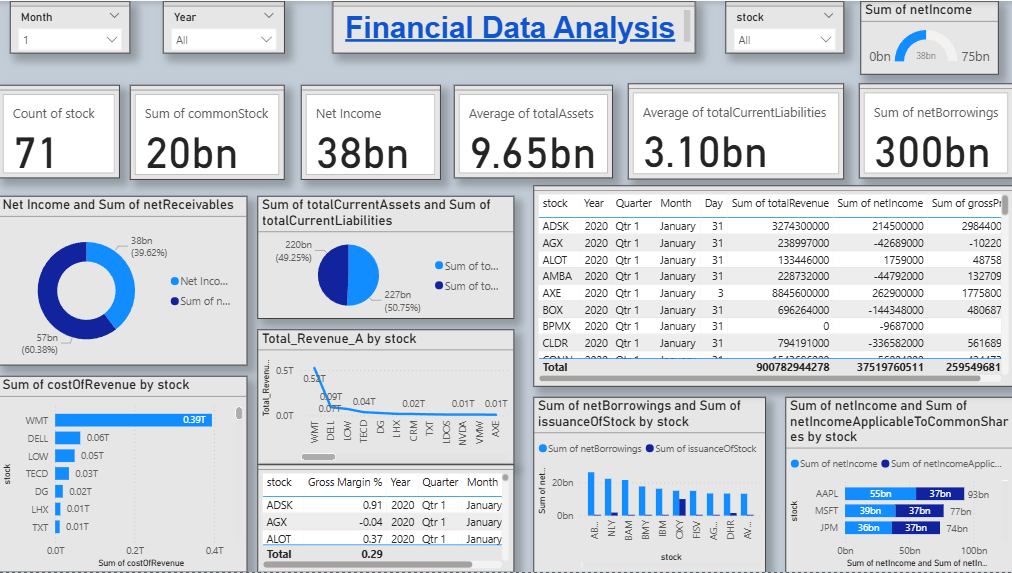

This screenshot's page, from the dashboard's own definition file:
{"tool":"powerbi","page":{"name":"Page 5","canvas":[1280,720],"ordinal":4},"visuals":[{"type":"slicer","fields":{"Values":["balanceSheetHistory_annually.Month"]},"box":[62.4,0,151.2,66.1],"z":0},{"type":"textbox","box":[421.4,0,457.3,66.1],"z":1000},{"type":"slicer","fields":{"Values":["balanceSheetHistory_annually.Year"]},"box":[236.2,0,153.1,66.1],"z":2000},{"type":"slicer","fields":{"Values":["balanceSheetHistory_annually.stock"]},"box":[916.5,0,149.3,66.1],"z":3000},{"type":"gauge","fields":{"Y":["Sum(incomeStatementHistory_annually.netIncome)"]},"box":[1086.6,0,173.9,92.6],"z":4000},{"type":"cardVisual","fields":{"Data":["CountNonNull(balanceSheetHistory_annually.stock)"]},"box":[0,105.8,153.1,117.2],"z":5000},{"type":"cardVisual","fields":{"Data":["Sum(balanceSheetHistory_annually.commonStock)"]},"box":[166.3,105.8,194.6,119.1],"z":6000},{"type":"cardVisual","fields":{"Data":["balanceSheetHistory_annually.Net Income"]},"box":[381.7,105.8,175.7,119.1],"z":7000},{"type":"cardVisual","fields":{"Data":["Avg(balanceSheetHistory_annually.totalAssets)"]},"box":[574.5,105.8,200.3,117.2],"z":8000},{"type":"cardVisual","fields":{"Data":["Avg(balanceSheetHistory_annually.totalCurrentLiabilities)"]},"box":[793.7,103.9,272.1,120.9],"z":9000},{"type":"cardVisual","fields":{"Data":["Sum(cashflowStatement_annually.netBorrowings)"]},"box":[1084.7,103.9,194.6,119.1],"z":10000},{"type":"donutChart","fields":{"Y":["balanceSheetHistory_annually.Net Income","Sum(balanceSheetHistory_annually.netReceivables)"]},"box":[0,245.7,313.7,213.5],"z":11000},{"type":"barChart","fields":{"Category":["balanceSheetHistory_annually.stock"],"Y":["Sum(incomeStatementHistory_annually.costOfRevenue)"]},"box":[0,472.4,313.7,247.6],"z":12000},{"type":"pieChart","fields":{"Y":["Sum(balanceSheetHistory_annually.totalCurrentAssets)","Sum(balanceSheetHistory_annually.totalCurrentLiabilities)"]},"box":[326.9,245.7,323.2,155],"z":13000},{"type":"lineChart","fields":{"Y":["balanceSheetHistory_annually.Total_Revenue_A"],"Category":["balanceSheetHistory_annually.stock"]},"box":[326.9,413.9,323.2,170.1],"z":14000},{"type":"tableEx","fields":{"Values":["balanceSheetHistory_annually.stock","balanceSheetHistory_annually.Gross Margin %","balanceSheetHistory_annually.endDate.Variation.Date Hierarchy.Year","balanceSheetHistory_annually.endDate.Variation.Date Hierarchy.Quarter","balanceSheetHistory_annually.endDate.Variation.Date Hierarchy.Month","balanceSheetHistory_annually.endDate.Variation.Date Hierarchy.Day"]},"box":[326.9,583.9,323.2,136.1],"z":15000},{"type":"clusteredColumnChart","fields":{"Y":["Sum(cashflowStatement_annually.netBorrowings)","Sum(cashflowStatement_annually.issuanceOfStock)"],"Category":["cashflowStatement_annually.stock"]},"box":[674.7,498.9,292.9,221.1],"z":16000},{"type":"barChart","fields":{"Category":["cashflowStatement_annually.stock"],"Y":["Sum(cashflowStatement_annually.netIncome)","Sum(incomeStatementHistory_annually.netIncomeApplicableToCommonShares)"]},"box":[992.1,498.9,287.2,221.1],"z":17000},{"type":"tableEx","fields":{"Values":["incomeStatementHistory_annually.stock","incomeStatementHistory_annually.endDate.Variation.Date Hierarchy.Year","incomeStatementHistory_annually.endDate.Variation.Date Hierarchy.Quarter","incomeStatementHistory_annually.endDate.Variation.Date Hierarchy.Month","incomeStatementHistory_annually.endDate.Variation.Date Hierarchy.Day","Sum(incomeStatementHistory_annually.totalRevenue)","Sum(incomeStatementHistory_annually.netIncome)","Sum(incomeStatementHistory_annually.grossProfit)"]},"box":[674.7,232.4,604.7,253.2],"z":18000},{"type":"actionButton","box":[0,13.2,77.5,39.7],"z":18001}]}

Visuals, with their boxes in screenshot pixels (x1, y1, x2, y2), scaled from the page's 1280x720 canvas onto the 1012x573 screenshot:
slicer - balanceSheetHistory_annually.Month: bbox(49, 0, 169, 53)
textbox: bbox(333, 0, 695, 53)
slicer - balanceSheetHistory_annually.Year: bbox(187, 0, 308, 53)
slicer - balanceSheetHistory_annually.stock: bbox(725, 0, 843, 53)
gauge - Sum(incomeStatementHistory_annually.netIncome): bbox(859, 0, 997, 74)
cardVisual - CountNonNull(balanceSheetHistory_annually.stock): bbox(0, 84, 121, 177)
cardVisual - Sum(balanceSheetHistory_annually.commonStock): bbox(131, 84, 285, 179)
cardVisual - balanceSheetHistory_annually.Net Income: bbox(302, 84, 441, 179)
cardVisual - Avg(balanceSheetHistory_annually.totalAssets): bbox(454, 84, 613, 177)
cardVisual - Avg(balanceSheetHistory_annually.totalCurrentLiabilities): bbox(628, 83, 843, 179)
cardVisual - Sum(cashflowStatement_annually.netBorrowings): bbox(858, 83, 1011, 177)
donutChart - balanceSheetHistory_annually.Net Income x Sum(balanceSheetHistory_annually.netReceivables): bbox(0, 196, 248, 365)
barChart - balanceSheetHistory_annually.stock x Sum(incomeStatementHistory_annually.costOfRevenue): bbox(0, 376, 248, 572)
pieChart - Sum(balanceSheetHistory_annually.totalCurrentAssets) x Sum(balanceSheetHistory_annually.totalCurrentLiabilities): bbox(258, 196, 514, 319)
lineChart - balanceSheetHistory_annually.Total_Revenue_A x balanceSheetHistory_annually.stock: bbox(258, 329, 514, 465)
tableEx - balanceSheetHistory_annually.stock x balanceSheetHistory_annually.Gross Margin %: bbox(258, 465, 514, 572)
clusteredColumnChart - Sum(cashflowStatement_annually.netBorrowings) x Sum(cashflowStatement_annually.issuanceOfStock): bbox(533, 397, 765, 572)
barChart - cashflowStatement_annually.stock x Sum(cashflowStatement_annually.netIncome): bbox(784, 397, 1011, 572)
tableEx - incomeStatementHistory_annually.stock x incomeStatementHistory_annually.endDate.Variation.Date Hierarchy.Year: bbox(533, 185, 1011, 386)
actionButton: bbox(0, 11, 61, 42)
